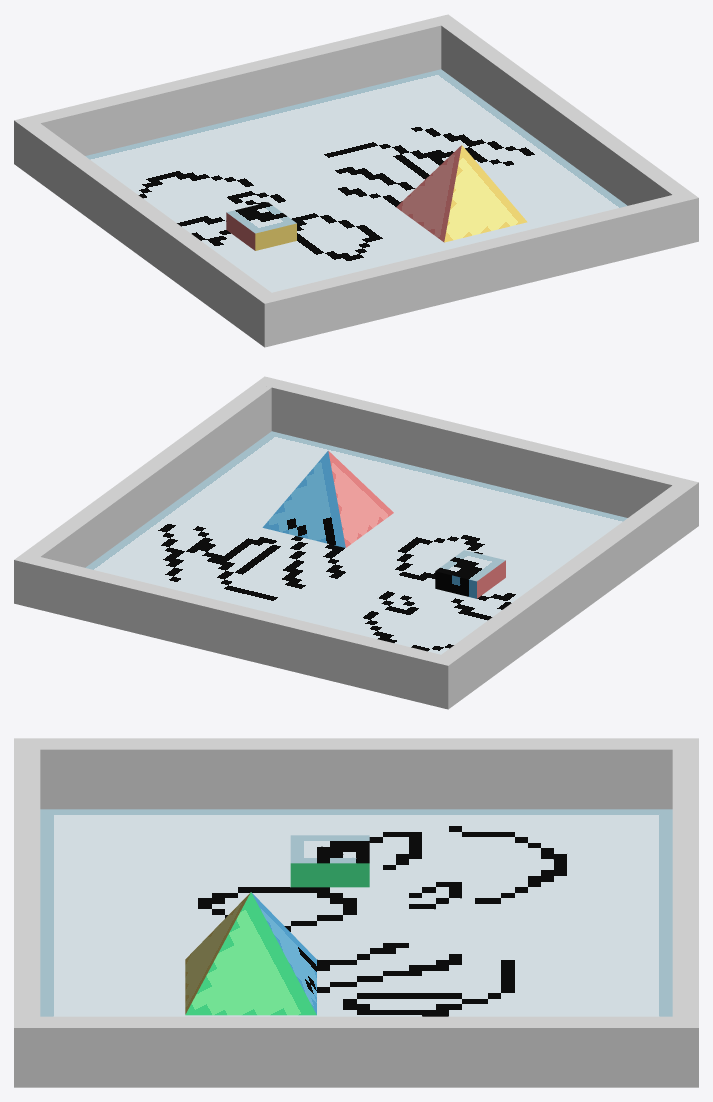
File: CubeRoom.fbx
3 views of the same model, one above another, from view 1: azimuth 30°, elevation 25°; view 2: azimuth 150°, elevation 25°; view 3: azimuth 270°, elevation 25° (orthographic). The views are drawn at different scales.
Visible parts, largest first — view 1: plane, cube_3, cube_2, cube, cube_1, pyramid, cube_4; view 2: plane, cube_2, cube_3, cube, cube_1, pyramid, cube_4; view 3: plane, cube_1, cube, pyramid, cube_3, cube_2, cube_4.
Part boxes in pixels (x1=…): plane: x1=85, y1=69, x2=627, y2=292; cube_3: x1=272, y1=191, x2=698, y2=343; cube_2: x1=14, y1=18, x2=441, y2=170; cube: x1=23, y1=123, x2=281, y2=347; cube_1: x1=432, y1=14, x2=688, y2=205; pyramid: x1=396, y1=145, x2=527, y2=242; cube_4: x1=226, y1=202, x2=296, y2=250; plane: x1=85, y1=431, x2=627, y2=654; cube_2: x1=30, y1=557, x2=457, y2=709; cube_3: x1=255, y1=376, x2=681, y2=517; cube: x1=441, y1=478, x2=698, y2=701; cube_1: x1=14, y1=383, x2=271, y2=607; pyramid: x1=262, y1=450, x2=393, y2=547; cube_4: x1=435, y1=550, x2=505, y2=598; plane: x1=40, y1=809, x2=672, y2=1016; cube_1: x1=40, y1=1016, x2=698, y2=1087; cube: x1=14, y1=738, x2=672, y2=809; pyramid: x1=185, y1=892, x2=316, y2=1015; cube_3: x1=14, y1=749, x2=40, y2=1087; cube_2: x1=672, y1=738, x2=698, y2=1016; cube_4: x1=290, y1=835, x2=369, y2=887.
Size of the model in its own units: 325 by 50 by 325.
Materials: 3 (3 with a texture image).
